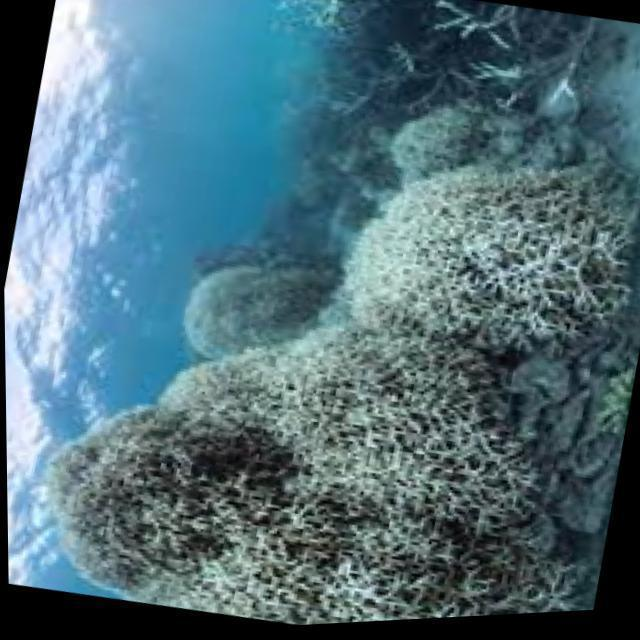Dead Coral: (8, 378, 290, 631), (218, 0, 611, 174), (125, 209, 336, 387)
